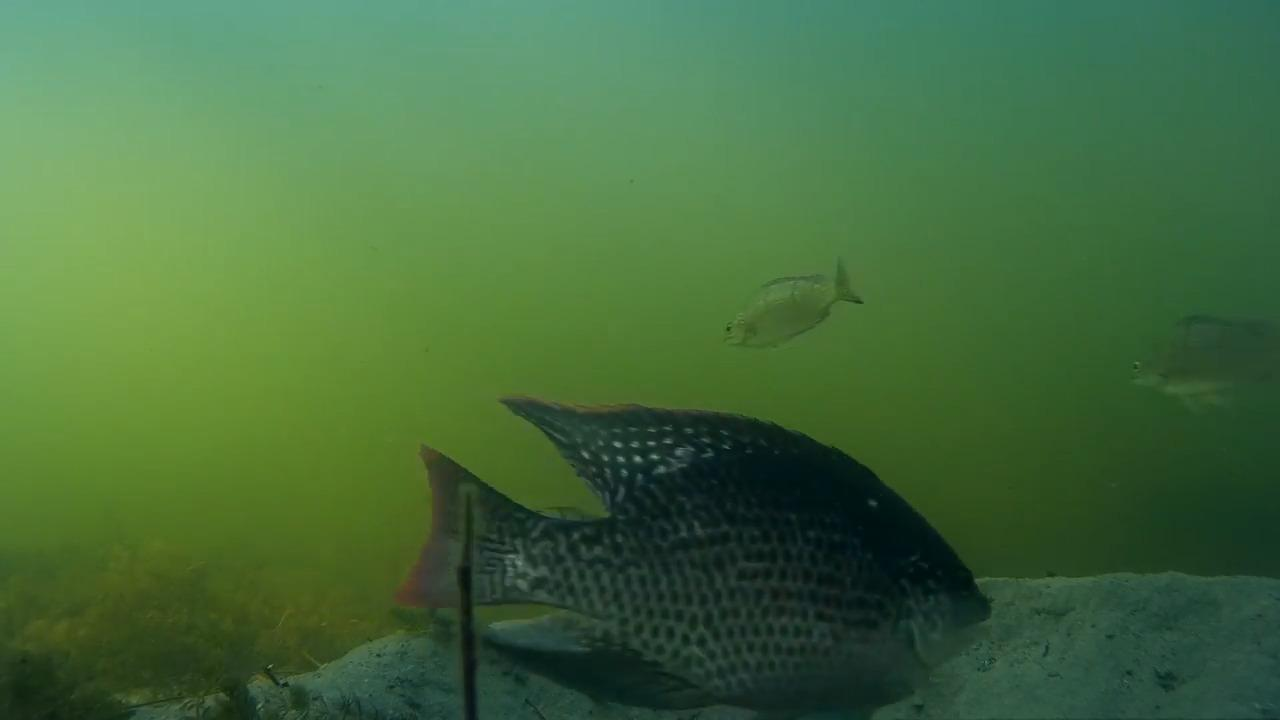Tilapia: (393, 372, 996, 720), (1113, 304, 1280, 420), (717, 250, 868, 358)
